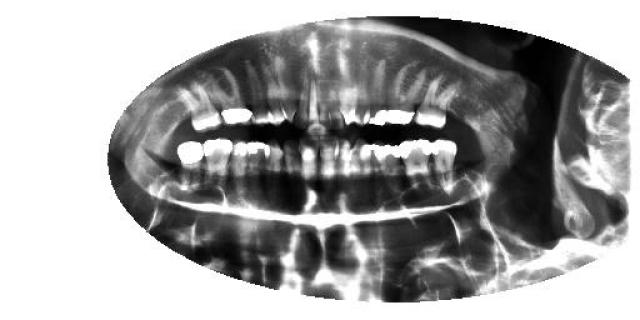Fillings: (382, 61, 426, 125), (208, 68, 252, 128), (399, 140, 431, 192), (201, 138, 231, 192), (431, 139, 459, 196), (372, 142, 398, 196), (368, 58, 387, 128), (178, 142, 202, 192), (244, 140, 264, 184), (231, 141, 245, 191)
